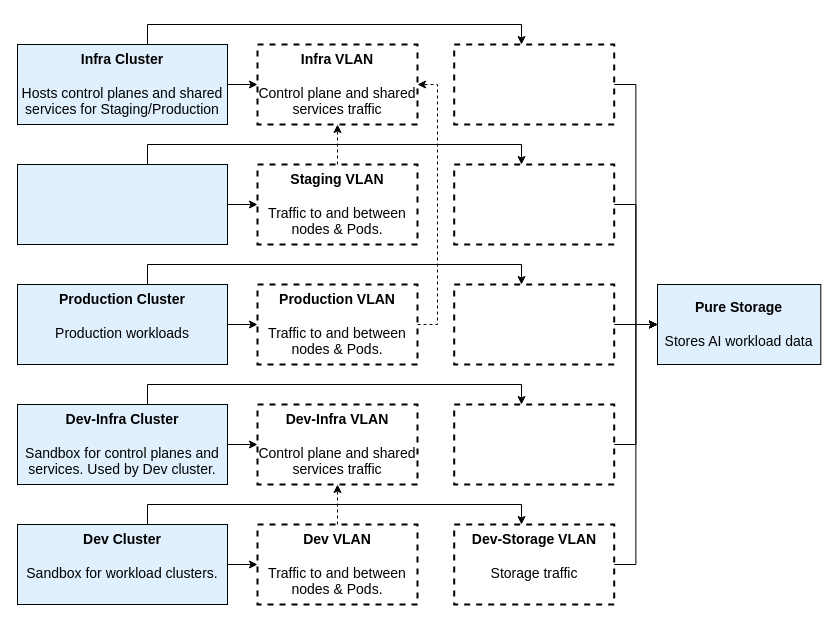
Image size: 839x623. Some labels were removed from this diagram. Here are the shapes that lost their labels. From the top down, the centre of each, then its label:
the point at 534,84: Infra-Storage VLAN Storage traffic
the point at 122,204: Staging Cluster Used to validate cluster level changes before Production
the point at 534,204: Staging-Storage VLAN Storage traffic
the point at 534,324: Production-Storage VLAN Storage traffic
the point at 534,444: Dev-Infra-Storage VLAN Storage traffic
